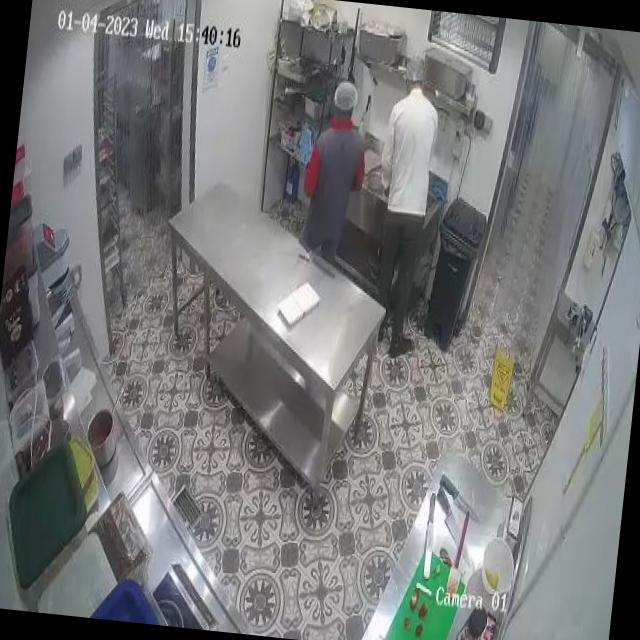hairnet: (332, 80, 359, 111), (403, 57, 423, 82)
